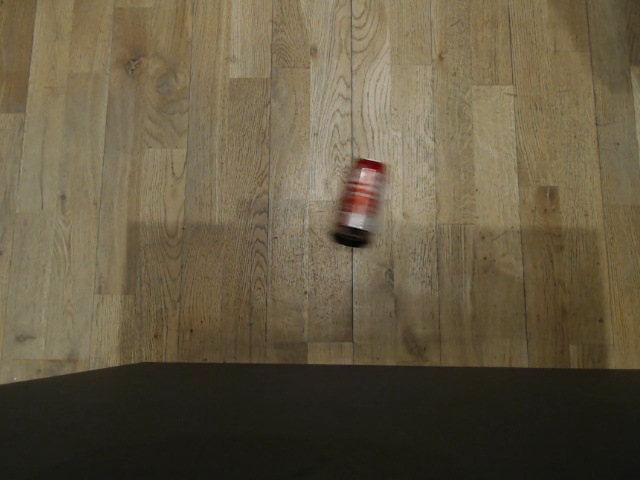coke: (334, 158, 386, 242)
